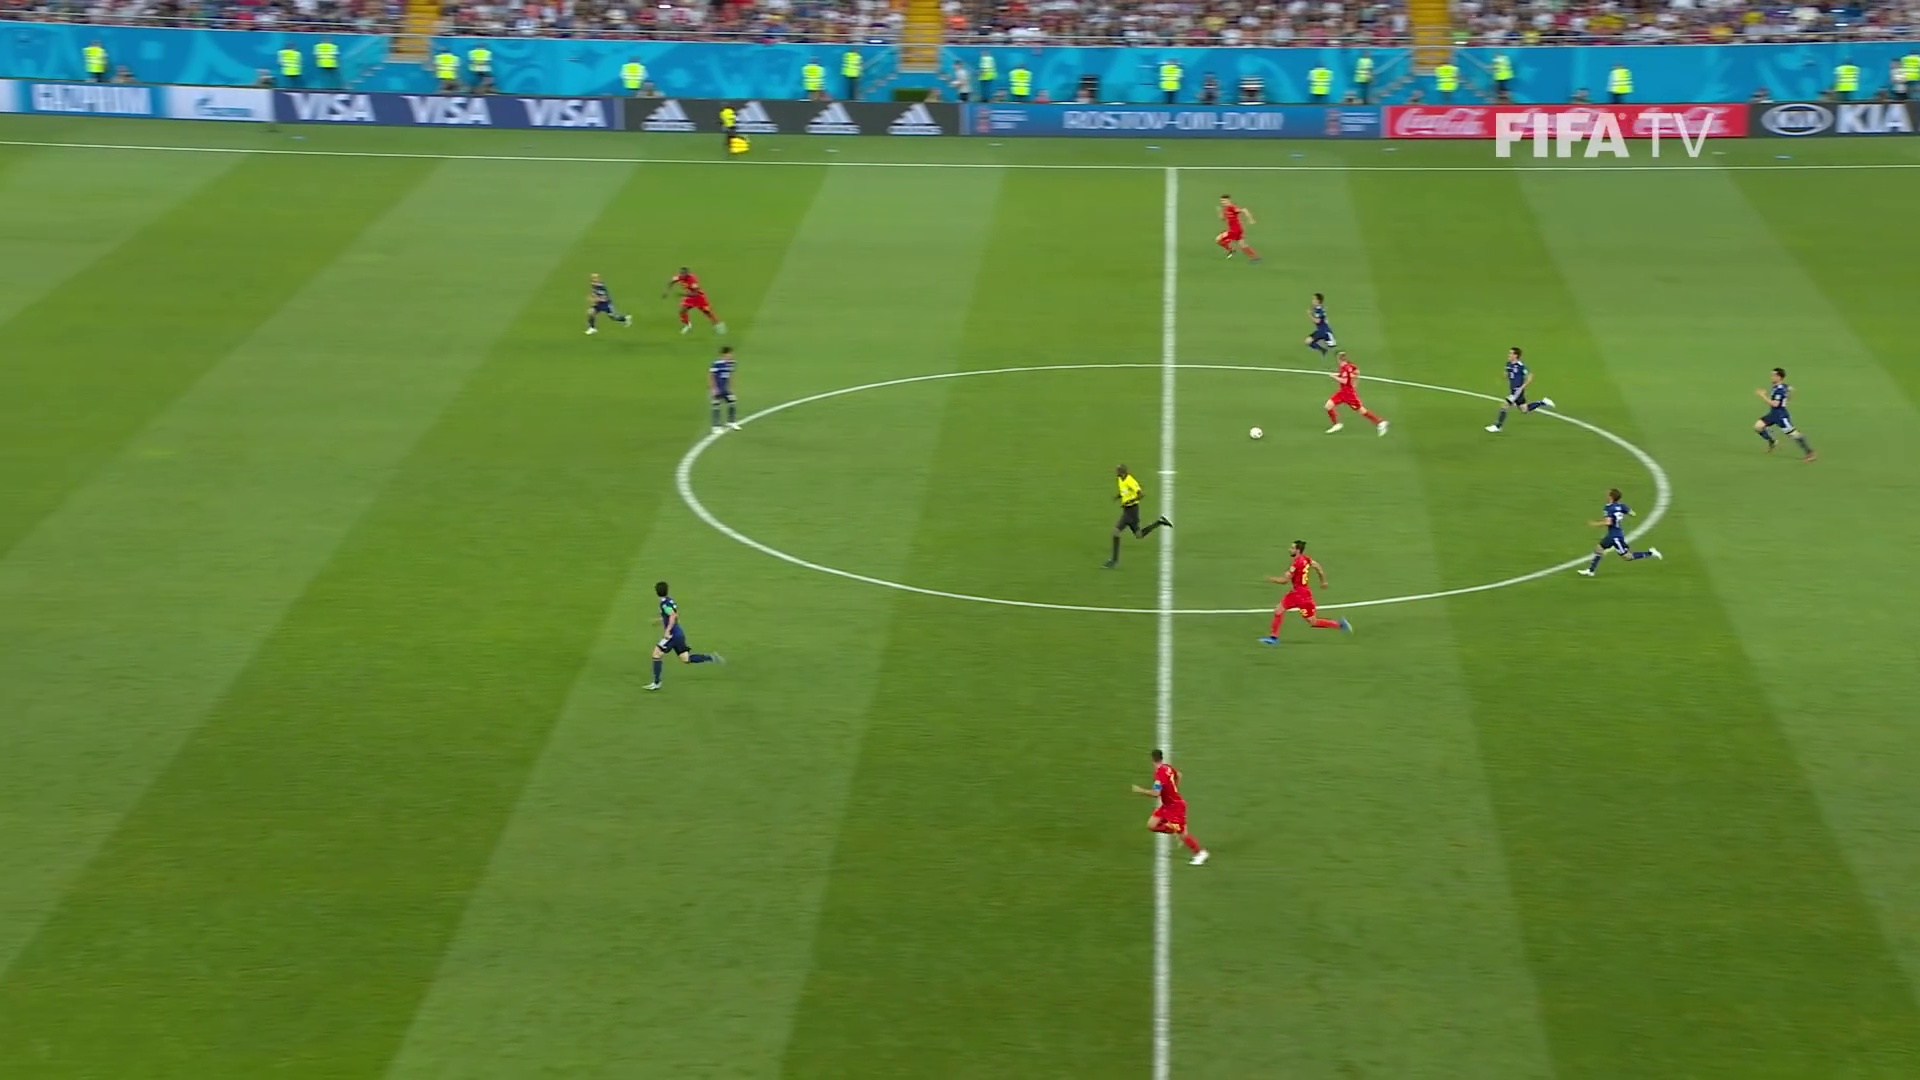ball: (1251, 427, 1261, 437)
person: (1260, 539, 1351, 644), (1133, 747, 1208, 862), (644, 580, 722, 688), (1580, 491, 1660, 577), (1750, 366, 1814, 461), (1486, 348, 1548, 432), (1327, 352, 1383, 433), (661, 266, 726, 334), (706, 346, 744, 435), (1212, 196, 1260, 261), (584, 272, 628, 334), (1308, 292, 1338, 361)
